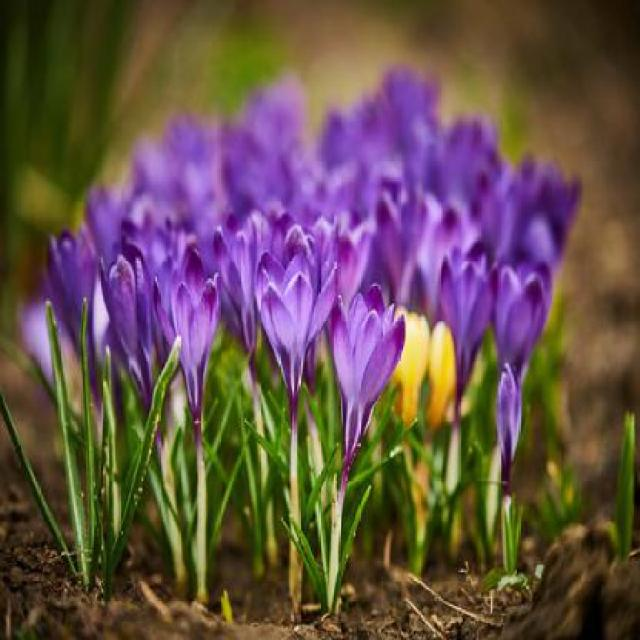Flower: (327, 284, 402, 462), (257, 252, 340, 406), (154, 256, 232, 418), (103, 242, 174, 408), (42, 210, 108, 385), (439, 248, 486, 390), (490, 364, 527, 473)
